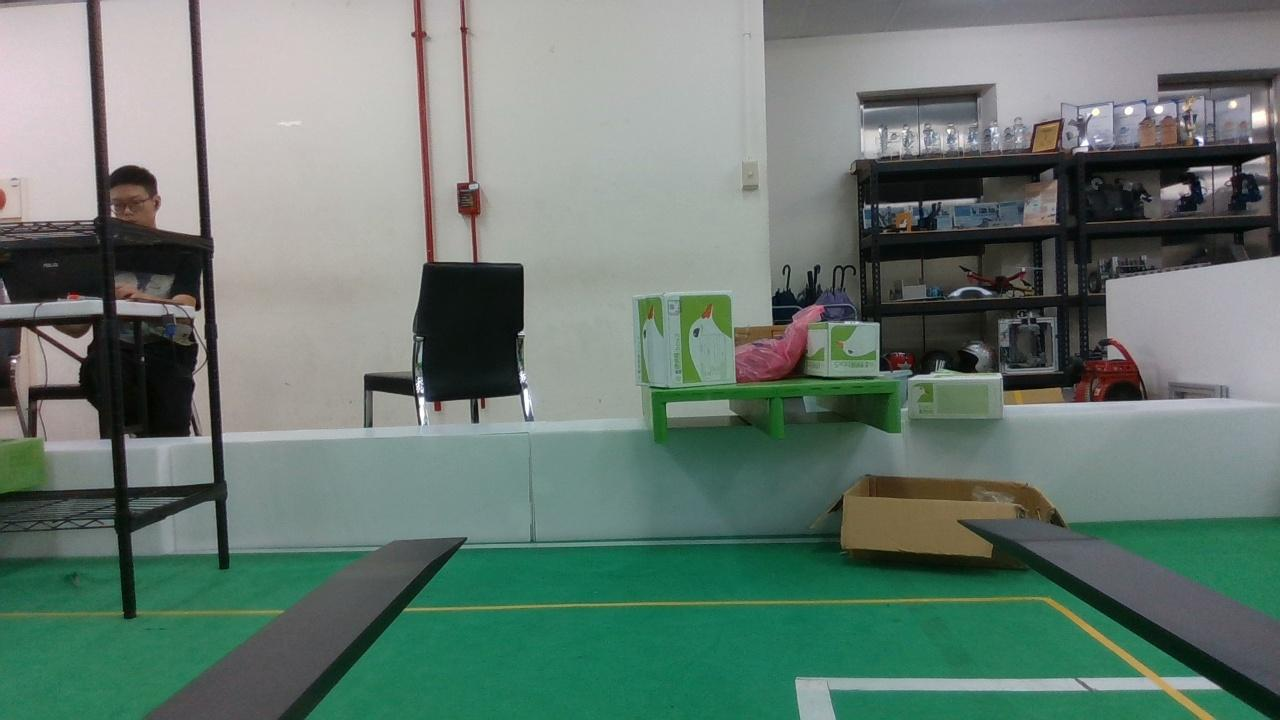Pallet: (652, 382, 902, 443)
